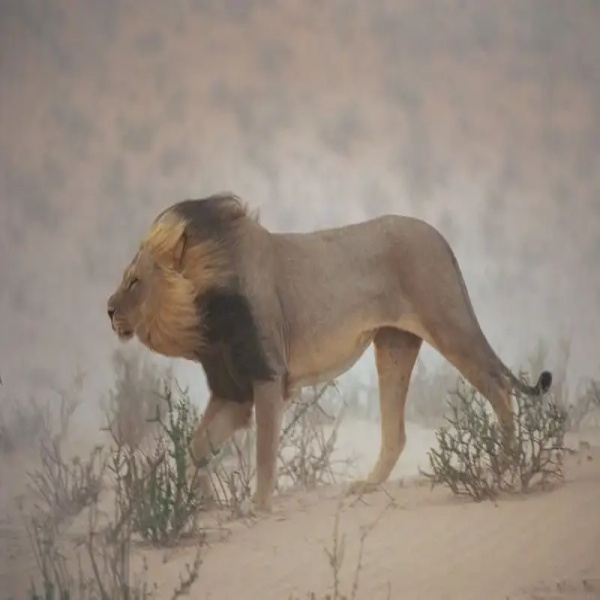Lion: (105, 192, 558, 518)
